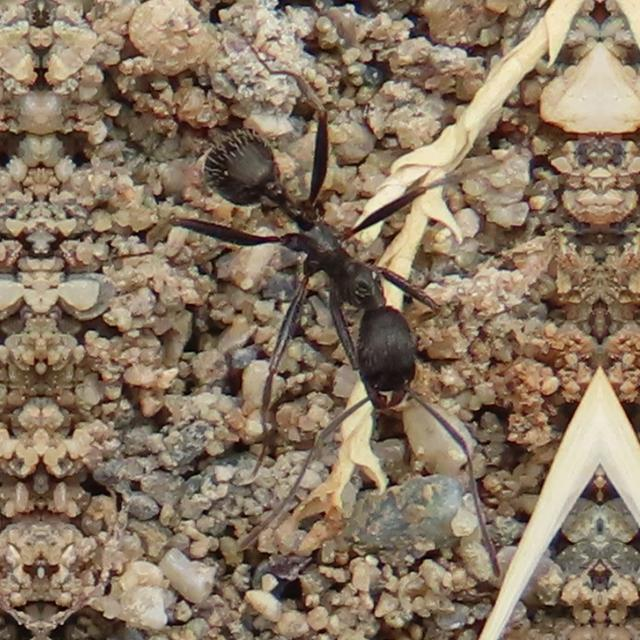Apheanogaster: (169, 82, 463, 450)
